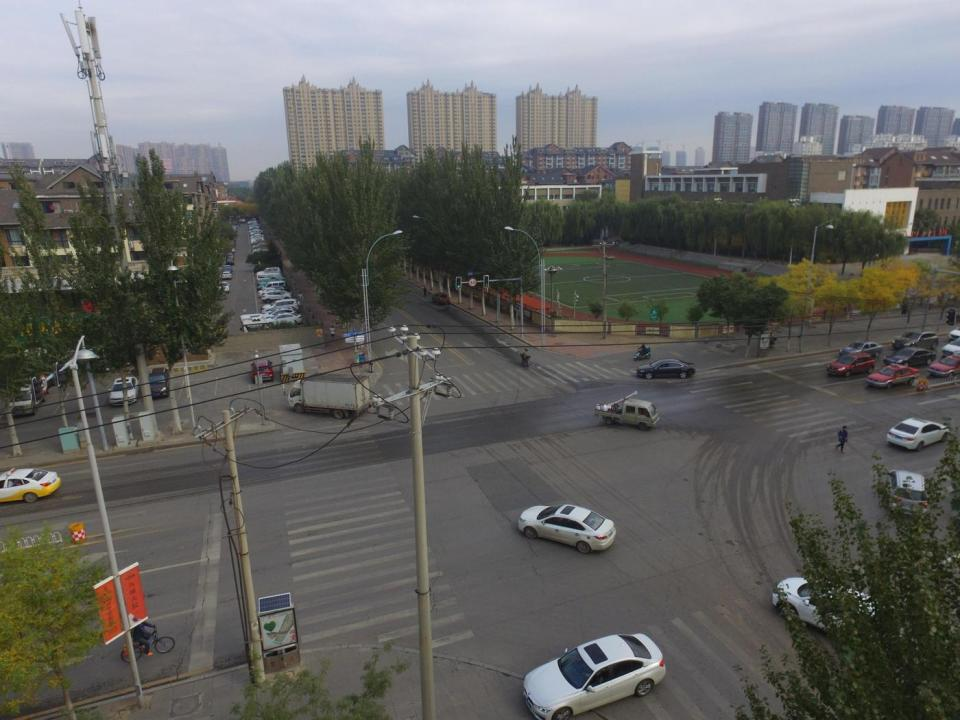car: (519, 632, 668, 720), (768, 576, 901, 654), (517, 500, 616, 554), (2, 468, 62, 506), (886, 418, 950, 451), (886, 468, 928, 518), (867, 365, 919, 389), (883, 347, 935, 371), (826, 354, 876, 378), (637, 360, 696, 379), (894, 329, 939, 353), (840, 341, 882, 365), (109, 376, 138, 406), (930, 354, 960, 382), (145, 369, 168, 400), (266, 314, 303, 329), (262, 299, 299, 314), (252, 358, 272, 384), (258, 278, 287, 289), (260, 292, 291, 302), (431, 293, 450, 308), (261, 285, 288, 295), (257, 267, 281, 277), (218, 283, 230, 294), (222, 272, 232, 280), (226, 258, 235, 266), (222, 266, 231, 274), (226, 253, 234, 260)
truck: (286, 373, 370, 418), (596, 396, 659, 432)
van: (6, 376, 43, 418), (259, 281, 285, 294), (257, 272, 283, 284)
